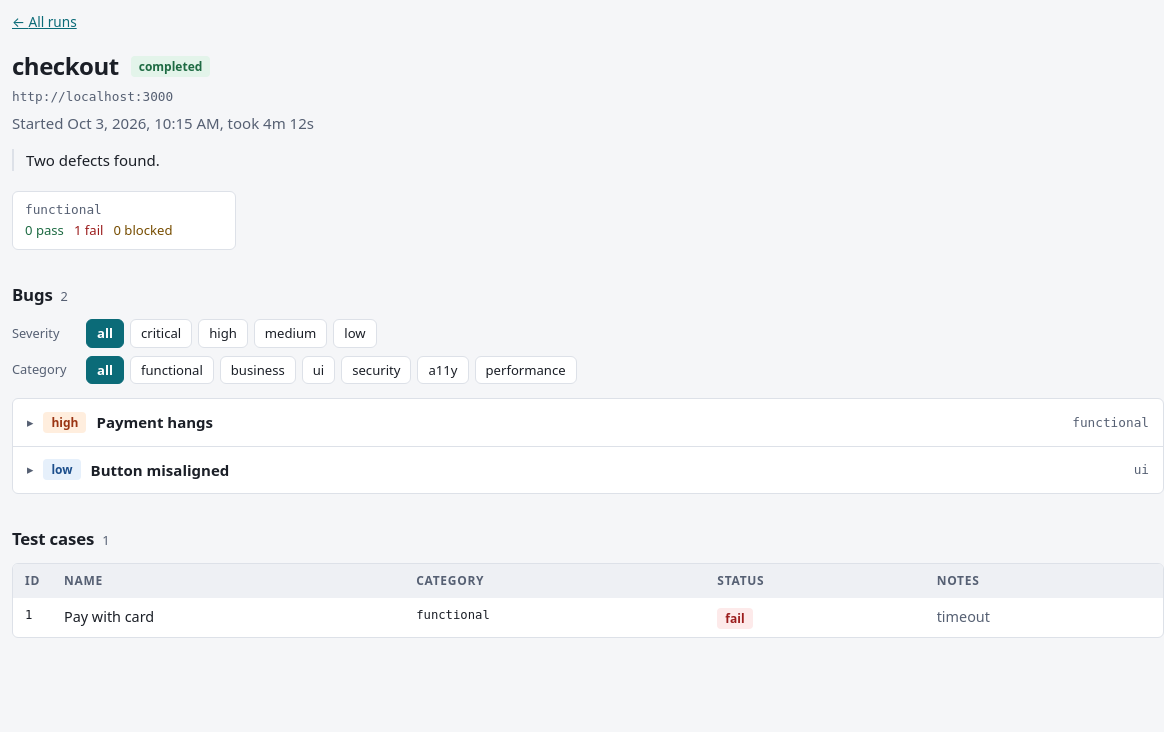
Test case: RunDetail › shows an empty state when filters match nothing
The image size is (1164, 732).
Expected: the text "Payment hangs" is shown, [96,412,213,432]
Click the button "ui".
click(318, 370)  # box [302,356,335,384]
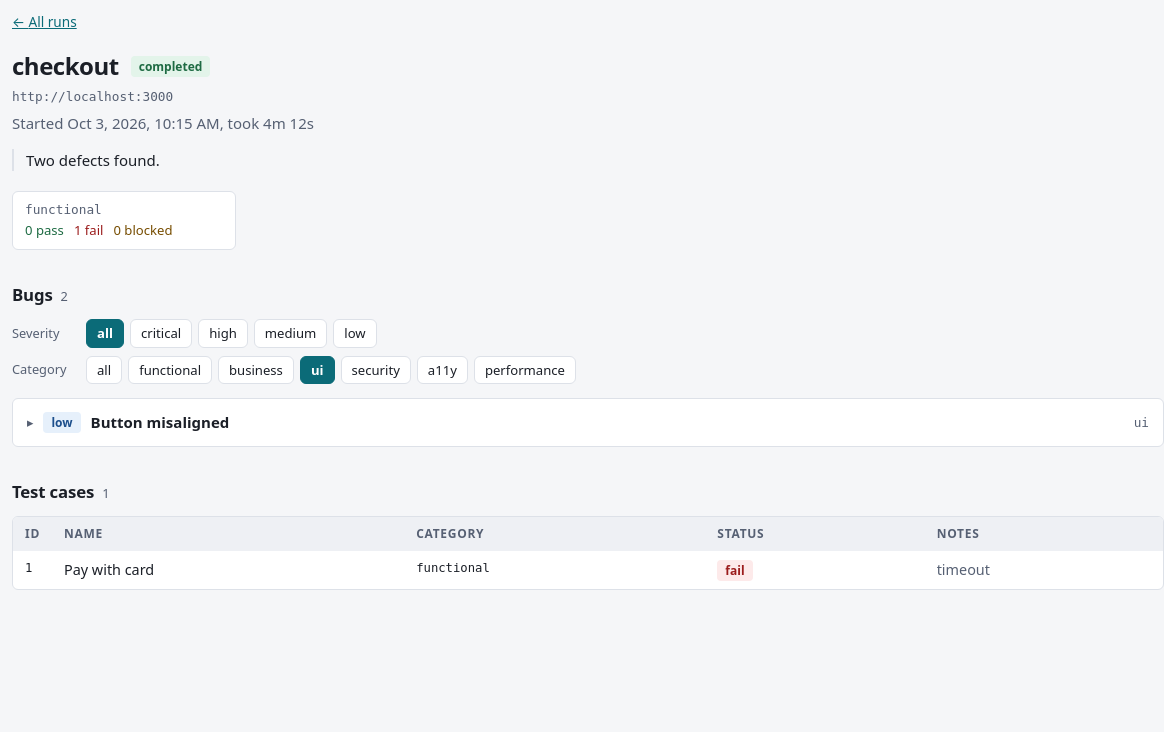
Click the button "high".
click(223, 334)  # box [198,319,248,348]
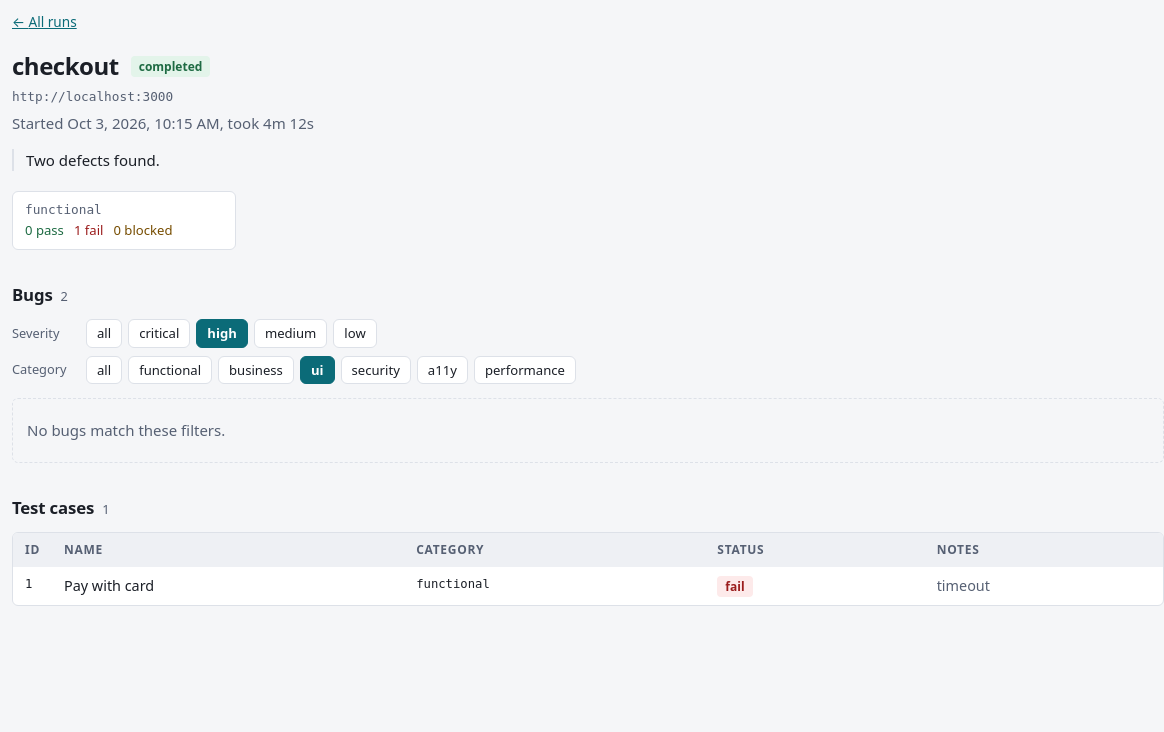
Expected: the text "No bugs match these filters." is shown, [12,398,1163,463]
